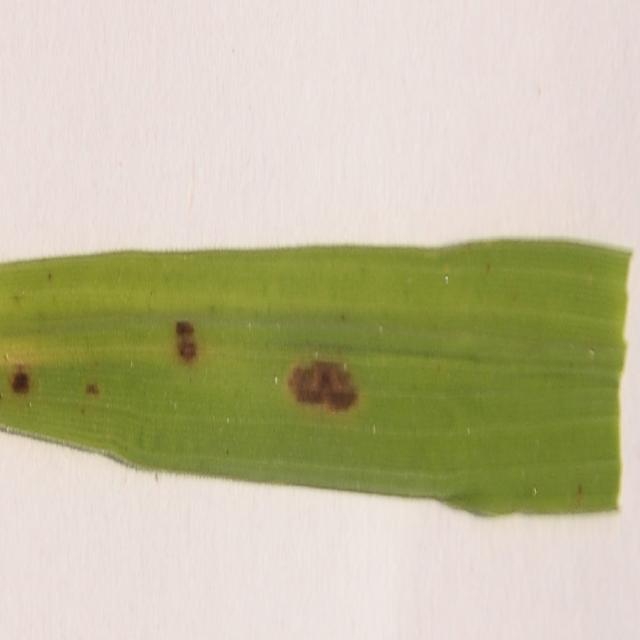brown spot: (282, 313, 371, 452), (164, 289, 209, 410), (0, 349, 39, 414), (82, 366, 103, 408)
